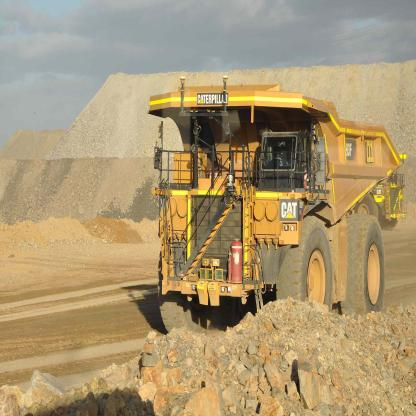dump_truck: (143, 73, 398, 338)
